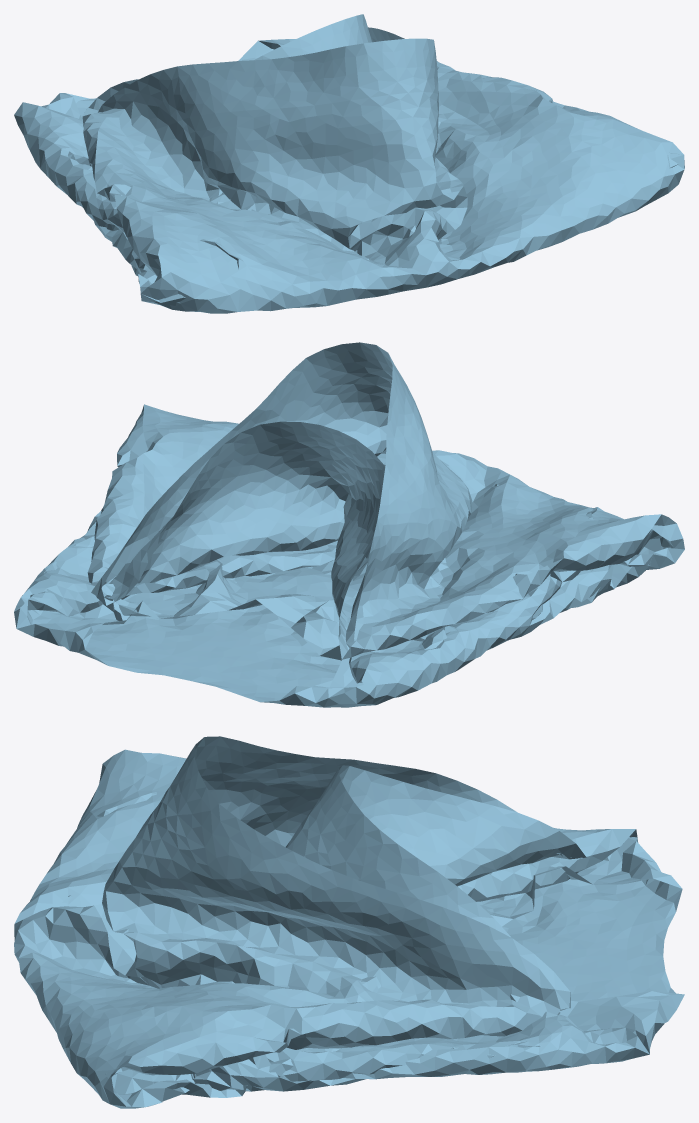
File: frame_20.glb
The picture shows the model from 3 angles, top to bottom: view 1: azimuth 30°, elevation 25°; view 2: azimuth 150°, elevation 25°; view 3: azimuth 270°, elevation 25°; orthographic projection. The views are drawn at different scales.
Parts seen in each view (by area): view 1: frame_20.obj; view 2: frame_20.obj; view 3: frame_20.obj.
Boxes of the visible parts, x1,y1,x2,y2 form: frame_20.obj: (14, 14, 684, 313); frame_20.obj: (14, 342, 684, 707); frame_20.obj: (14, 736, 684, 1108).
Size of the model in its own units: 1.11 by 0.3835 by 1.01.
